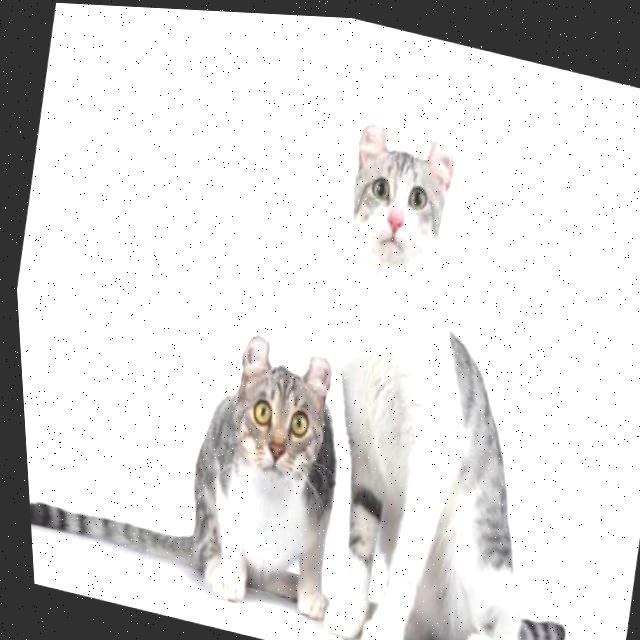American Curl: (254, 102, 640, 640), (13, 276, 372, 626)
